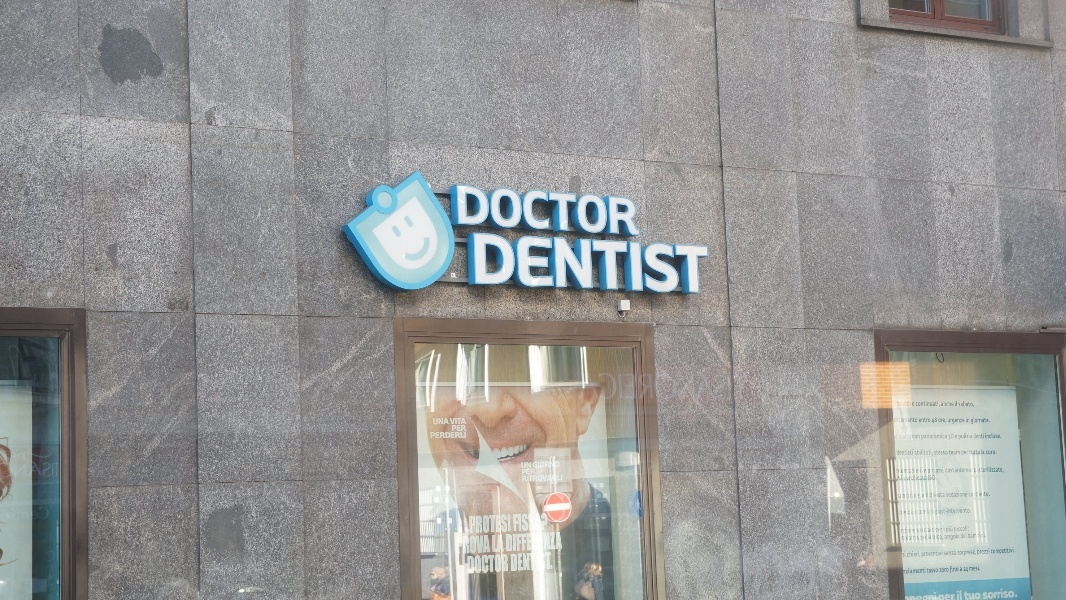text: (481, 229, 496, 295), (497, 229, 512, 295), (513, 229, 528, 295), (529, 229, 544, 295), (545, 229, 560, 295), (561, 229, 576, 295), (577, 229, 592, 295), (593, 229, 608, 295), (609, 229, 624, 295), (625, 229, 640, 295), (641, 229, 656, 295), (657, 229, 672, 295), (673, 229, 688, 295), (689, 229, 704, 295), (467, 229, 480, 295), (449, 184, 464, 238), (465, 184, 480, 238), (481, 184, 496, 238), (497, 184, 512, 238), (513, 184, 528, 238), (529, 184, 544, 238), (545, 184, 560, 238), (561, 184, 576, 238), (577, 184, 592, 238), (593, 184, 608, 238), (609, 184, 624, 238), (625, 184, 640, 238), (593, 372, 608, 400), (609, 372, 624, 400), (625, 372, 640, 400), (641, 372, 656, 400), (657, 372, 672, 400), (673, 372, 688, 400), (689, 372, 704, 400), (705, 372, 720, 400), (721, 372, 736, 400), (737, 372, 751, 400), (481, 555, 496, 575), (513, 552, 528, 572), (529, 552, 544, 572), (481, 515, 496, 534), (465, 536, 480, 555), (545, 532, 560, 551), (513, 534, 528, 552), (497, 515, 511, 534), (705, 229, 709, 295), (467, 555, 480, 575), (514, 514, 528, 532), (497, 555, 509, 575), (1, 463, 16, 478), (17, 463, 32, 478), (33, 463, 48, 478), (470, 515, 480, 534), (481, 536, 491, 555), (993, 588, 1008, 600), (49, 463, 60, 478), (641, 184, 644, 238), (545, 552, 553, 572), (913, 590, 928, 600), (929, 590, 944, 600), (497, 535, 505, 553), (587, 372, 592, 400), (929, 550, 944, 559), (457, 536, 464, 555), (929, 433, 944, 441), (913, 474, 928, 482), (913, 508, 928, 516), (945, 507, 960, 515), (913, 526, 928, 534), (929, 526, 944, 534), (945, 533, 960, 541), (977, 548, 992, 556), (993, 547, 1008, 555), (913, 567, 927, 575), (945, 590, 956, 600), (506, 534, 512, 552), (983, 588, 992, 600), (1009, 588, 1018, 600), (433, 418, 448, 425), (433, 432, 448, 439), (449, 432, 464, 439), (545, 461, 560, 468), (529, 475, 544, 482), (545, 475, 560, 482), (913, 534, 928, 541), (929, 534, 944, 541), (899, 508, 912, 516), (965, 591, 976, 600), (450, 418, 464, 425), (977, 417, 991, 424), (898, 449, 912, 456), (914, 449, 928, 456), (898, 493, 912, 500), (961, 551, 977, 557), (947, 491, 960, 498), (947, 526, 960, 533), (897, 401, 912, 407), (897, 467, 912, 473), (913, 467, 928, 473), (897, 475, 912, 481), (961, 533, 976, 539), (961, 507, 972, 515), (452, 425, 464, 432), (916, 401, 928, 408), (929, 401, 941, 408), (961, 433, 973, 440), (961, 525, 970, 534), (902, 526, 912, 534), (950, 566, 960, 574), (899, 433, 912, 439), (979, 467, 992, 473), (533, 461, 544, 468), (949, 433, 960, 440), (897, 418, 912, 423), (961, 468, 976, 473), (492, 535, 496, 553), (529, 534, 533, 552), (993, 467, 1005, 473), (961, 402, 975, 407), (962, 451, 976, 456), (946, 468, 960, 473), (977, 492, 991, 497), (977, 532, 987, 539), (905, 590, 912, 600), (933, 418, 944, 424), (936, 507, 944, 515), (904, 567, 912, 575), (913, 493, 922, 500), (903, 534, 912, 541), (903, 551, 912, 558), (945, 401, 955, 407), (948, 419, 960, 424), (966, 417, 976, 423), (913, 435, 928, 439), (982, 449, 992, 455), (945, 551, 957, 556), (964, 567, 976, 572), (529, 469, 537, 476), (968, 532, 976, 539), (913, 551, 921, 558), (1009, 547, 1016, 555), (949, 450, 960, 455), (993, 433, 1002, 439), (935, 450, 944, 456), (929, 475, 938, 481), (935, 492, 944, 498), (922, 550, 928, 559), (929, 568, 939, 573), (961, 491, 968, 498), (969, 565, 976, 572), (922, 433, 928, 441), (977, 433, 985, 439), (929, 467, 937, 473), (936, 468, 944, 474), (906, 474, 912, 482), (929, 508, 935, 516), (955, 525, 960, 534), (977, 591, 982, 600), (522, 462, 528, 469), (522, 469, 528, 476), (920, 418, 928, 423), (561, 532, 563, 551), (986, 433, 992, 439), (929, 492, 935, 498), (523, 475, 528, 482), (929, 449, 934, 456), (955, 401, 960, 407), (939, 418, 944, 424), (970, 450, 976, 455), (986, 450, 992, 455), (957, 590, 960, 600), (972, 417, 976, 424), (969, 493, 976, 497), (908, 551, 912, 558), (977, 565, 981, 572), (913, 418, 918, 423), (993, 450, 998, 455), (939, 568, 944, 573), (945, 433, 948, 441), (945, 450, 949, 456), (922, 494, 928, 498), (529, 462, 532, 469), (511, 552, 512, 572), (961, 419, 965, 424), (977, 450, 981, 455), (945, 568, 949, 573), (961, 590, 963, 600), (941, 401, 944, 407), (956, 435, 960, 439), (465, 418, 467, 425), (465, 425, 467, 432), (465, 432, 467, 439), (561, 475, 563, 482), (945, 418, 947, 424), (974, 433, 976, 439), (926, 492, 928, 498), (958, 551, 960, 557), (913, 402, 915, 407), (894, 418, 896, 423), (929, 418, 931, 423), (977, 468, 979, 473), (961, 567, 963, 572), (897, 435, 899, 439), (945, 526, 946, 534), (991, 547, 992, 555), (449, 418, 450, 425), (431, 432, 432, 439), (959, 433, 960, 440), (913, 449, 914, 456), (945, 468, 946, 474), (945, 492, 946, 498), (959, 402, 960, 407), (927, 568, 928, 573)
